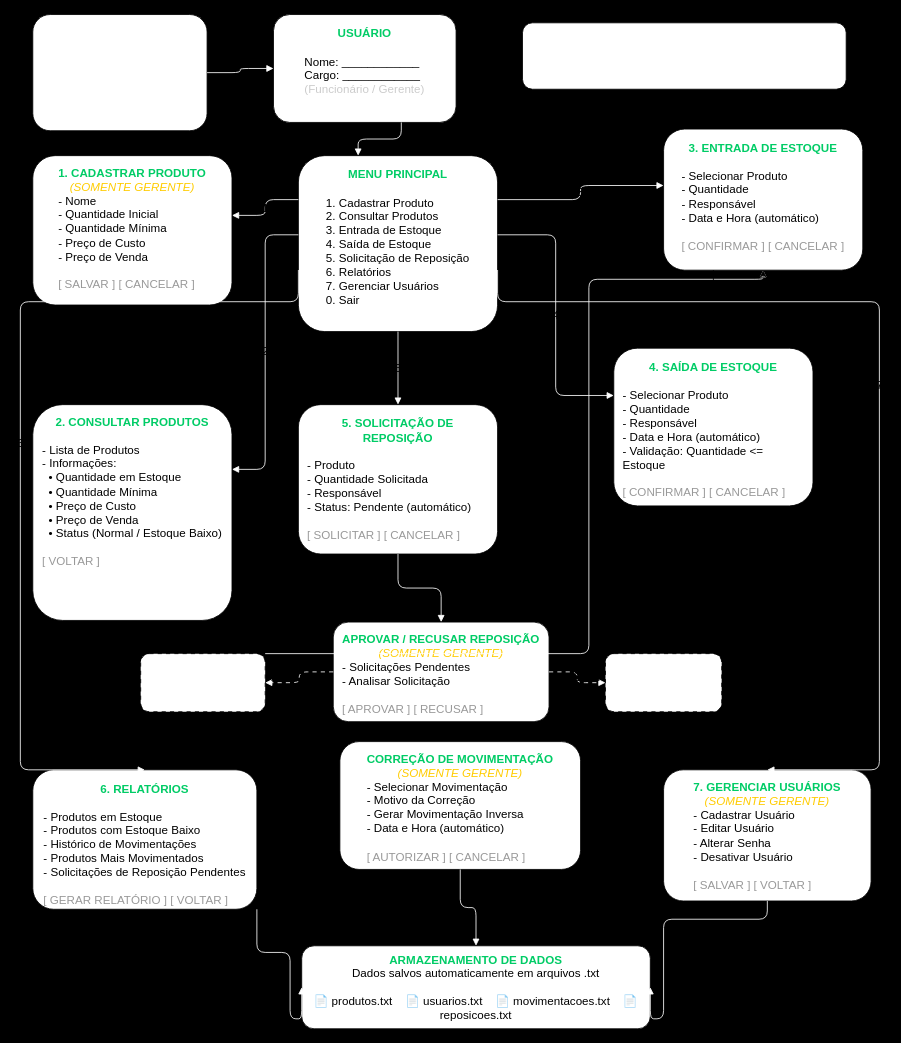
Some shapes in this 901 by 1043 pixel diagram are drawn without their labels. Each missing label, with the centre of its shape:
APROVADA Aguardar Entrada de Estoque: point (202, 682)
RECUSADA Solicitação Registrada: point (663, 682)
SISTEMA DE CONTROLE DE ESTOQUE PARA PEQUENO COMÉRCIO: point (684, 55)
TELA DE LOGIN Usuário: ____________ Senha: ____________ [ ENTRAR ]: point (119, 72)
